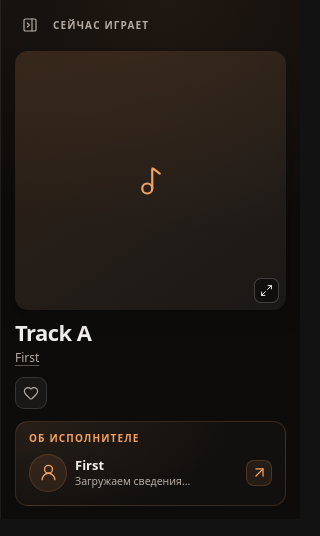
NowPlayingRail › keeps the artist route available during lookup and ignores a late response for another artist
Click the button with class "npr-artist-route".
click(150, 472)  # box [26, 450, 275, 494]
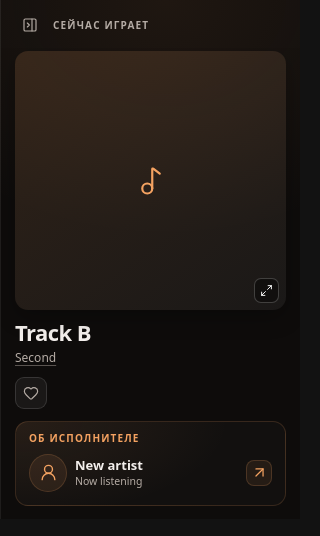
Expected: the text with class "npr-artist-name" reads "New artist", [75, 456, 143, 474]
